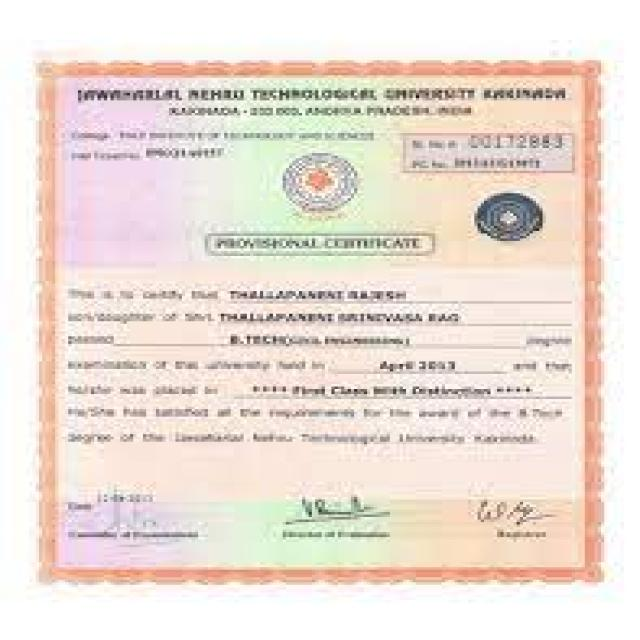degree: (220, 325, 430, 353)
signature: (294, 489, 404, 544), (70, 513, 222, 547), (462, 492, 560, 538)
stamp: (262, 148, 372, 226)
